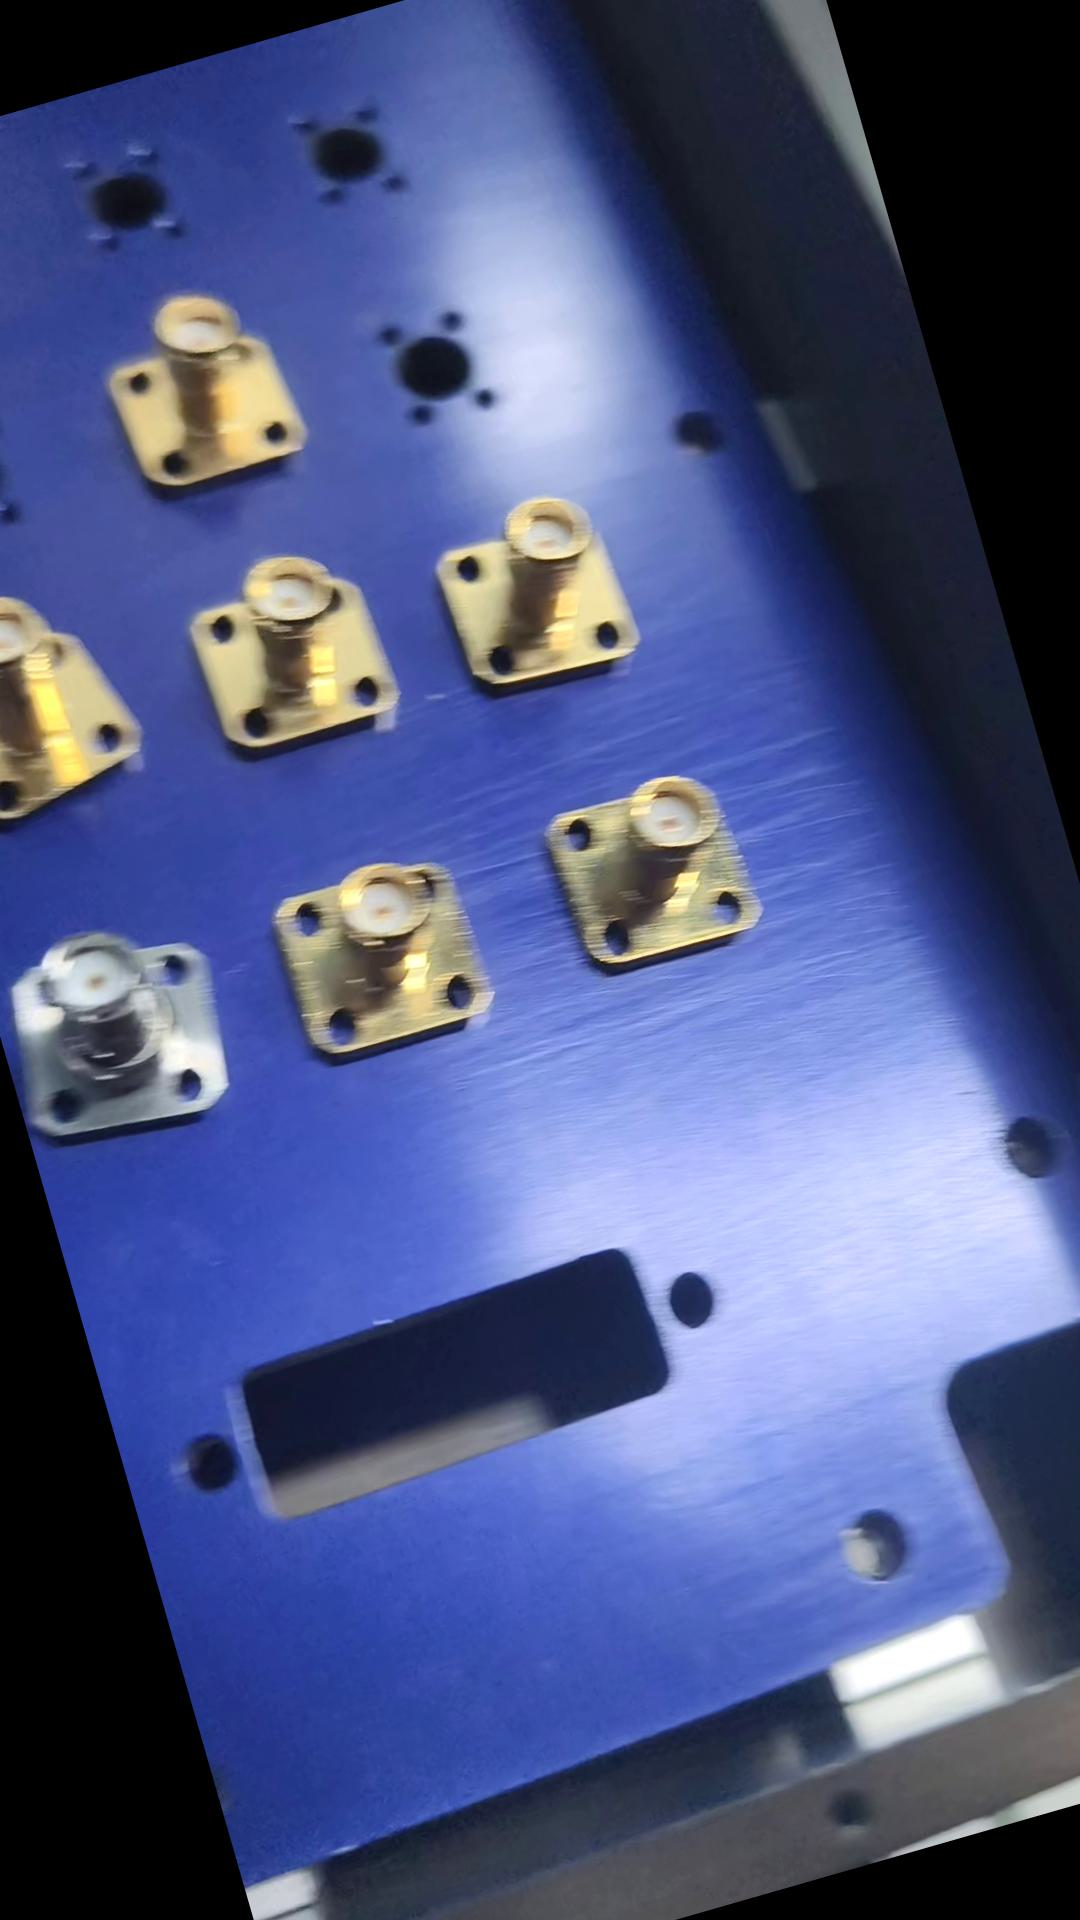SMA: (0, 903, 252, 1171), (255, 839, 504, 1077), (170, 527, 411, 771), (73, 272, 309, 514), (531, 760, 773, 992), (419, 477, 654, 705), (0, 567, 150, 848)
